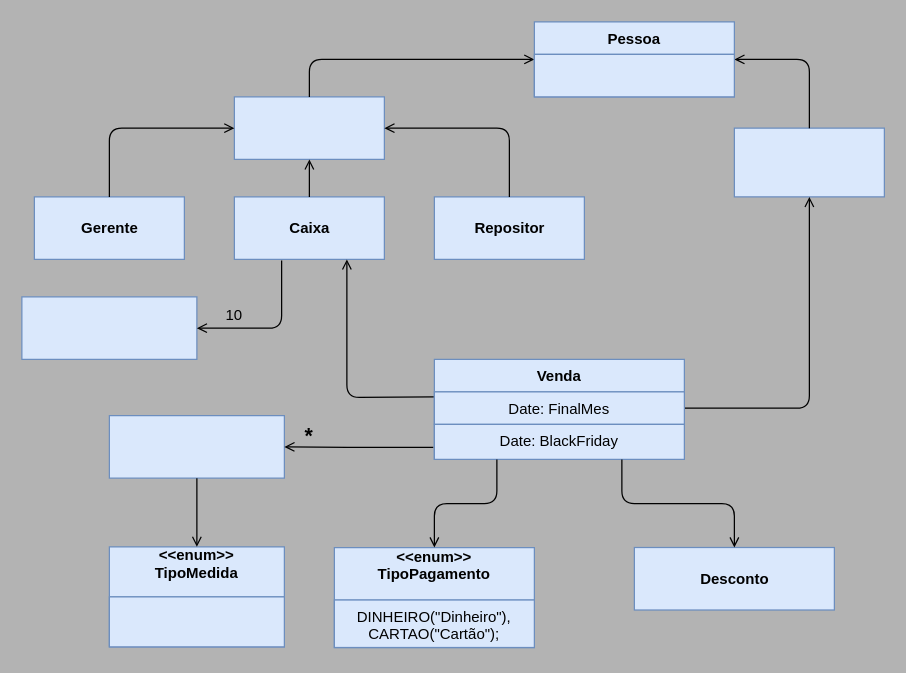
This 906x673 diagram has some shape labels left out. Here are the shapes that lost their labels. From the top down, the centre of each, then its label:
(x=633, y=75): Date: DataNascimento
(x=308, y=127): Funcionário
(x=808, y=162): Cliente
(x=109, y=327): RelatórioCaixa
(x=196, y=446): Produto
(x=196, y=621): KG("Kilograma"), UNIDADE("Unidade");
